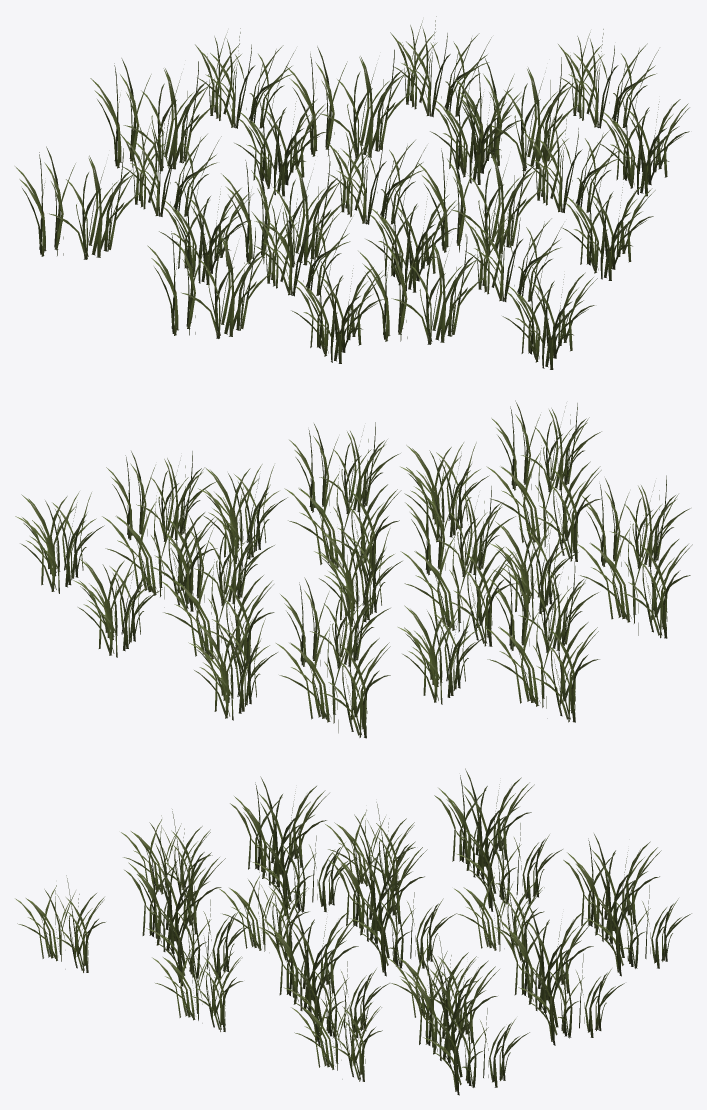
File: Grass11.fbx
The picture shows the model from 3 angles, top to bottom: view 1: azimuth 30°, elevation 25°; view 2: azimuth 150°, elevation 25°; view 3: azimuth 270°, elevation 25°; orthographic projection. The views are drawn at different scales.
Visible parts, largest first — view 1: LV_Gnollando_Foliage_CityGrass02A_PM_KJH.023, LV_Gnollando_Foliage_CityGrass02A_PM_KJH.022, LV_Gnollando_Foliage_CityGrass02A_PM_KJH.004, LV_Gnollando_Foliage_CityGrass02A_PM_KJH.005, LV_Gnollando_Foliage_CityGrass02A_PM_KJH.020, LV_Gnollando_Foliage_CityGrass02A_PM_KJH.002, LV_Gnollando_Foliage_CityGrass02A_PM_KJH.003, LV_Gnollando_Foliage_CityGrass02A_PM_KJH; view 2: LV_Gnollando_Foliage_CityGrass02A_PM_KJH.020, LV_Gnollando_Foliage_CityGrass02A_PM_KJH.004, LV_Gnollando_Foliage_CityGrass02A_PM_KJH.003, LV_Gnollando_Foliage_CityGrass02A_PM_KJH.023, LV_Gnollando_Foliage_CityGrass02A_PM_KJH.022, LV_Gnollando_Foliage_CityGrass02A_PM_KJH, LV_Gnollando_Foliage_CityGrass02A_PM_KJH.005, LV_Gnollando_Foliage_CityGrass02A_PM_KJH.002; view 3: LV_Gnollando_Foliage_CityGrass02A_PM_KJH, LV_Gnollando_Foliage_CityGrass02A_PM_KJH.022, LV_Gnollando_Foliage_CityGrass02A_PM_KJH.004, LV_Gnollando_Foliage_CityGrass02A_PM_KJH.003, LV_Gnollando_Foliage_CityGrass02A_PM_KJH.002, LV_Gnollando_Foliage_CityGrass02A_PM_KJH.023, LV_Gnollando_Foliage_CityGrass02A_PM_KJH.020, LV_Gnollando_Foliage_CityGrass02A_PM_KJH.005.
Part boxes in pixels (<box>): LV_Gnollando_Foliage_CityGrass02A_PM_KJH.023: <box>147,198,383,363</box>; LV_Gnollando_Foliage_CityGrass02A_PM_KJH.022: <box>358,205,597,369</box>; LV_Gnollando_Foliage_CityGrass02A_PM_KJH.004: <box>90,28,328,196</box>; LV_Gnollando_Foliage_CityGrass02A_PM_KJH.005: <box>286,16,523,184</box>; LV_Gnollando_Foliage_CityGrass02A_PM_KJH.020: <box>15,119,253,284</box>; LV_Gnollando_Foliage_CityGrass02A_PM_KJH.002: <box>417,115,655,280</box>; LV_Gnollando_Foliage_CityGrass02A_PM_KJH.003: <box>221,126,458,292</box>; LV_Gnollando_Foliage_CityGrass02A_PM_KJH: <box>454,29,689,196</box>; LV_Gnollando_Foliage_CityGrass02A_PM_KJH.020: <box>398,561,599,722</box>; LV_Gnollando_Foliage_CityGrass02A_PM_KJH.004: <box>188,577,390,738</box>; LV_Gnollando_Foliage_CityGrass02A_PM_KJH.003: <box>314,485,516,646</box>; LV_Gnollando_Foliage_CityGrass02A_PM_KJH.023: <box>489,475,692,638</box>; LV_Gnollando_Foliage_CityGrass02A_PM_KJH.022: <box>400,400,601,561</box>; LV_Gnollando_Foliage_CityGrass02A_PM_KJH: <box>15,451,218,611</box>; LV_Gnollando_Foliage_CityGrass02A_PM_KJH.005: <box>73,514,274,675</box>; LV_Gnollando_Foliage_CityGrass02A_PM_KJH.002: <box>198,422,401,583</box>; LV_Gnollando_Foliage_CityGrass02A_PM_KJH: <box>291,952,529,1095</box>; LV_Gnollando_Foliage_CityGrass02A_PM_KJH.022: <box>15,843,253,986</box>; LV_Gnollando_Foliage_CityGrass02A_PM_KJH.004: <box>454,834,691,976</box>; LV_Gnollando_Foliage_CityGrass02A_PM_KJH.003: <box>218,833,456,976</box>; LV_Gnollando_Foliage_CityGrass02A_PM_KJH.002: <box>152,902,389,1045</box>; LV_Gnollando_Foliage_CityGrass02A_PM_KJH.023: <box>121,776,358,919</box>; LV_Gnollando_Foliage_CityGrass02A_PM_KJH.020: <box>325,768,562,911</box>; LV_Gnollando_Foliage_CityGrass02A_PM_KJH.005: <box>386,903,624,1045</box>.
Bounding box in the file's own units: 5.21 × 0.7576 × 5.52.
8 materials, 8 textured.
